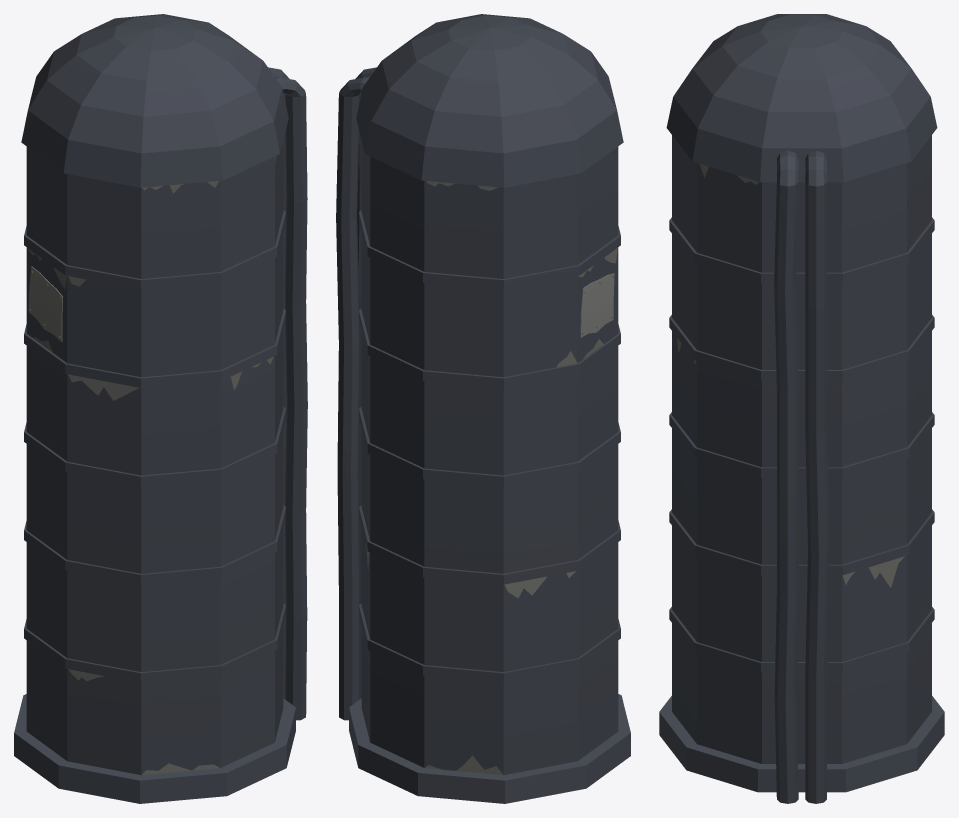
Rendered from Elevator_02.fbx.
The picture shows the model from 3 angles, left to right: view 1: azimuth 30°, elevation 25°; view 2: azimuth 150°, elevation 25°; view 3: azimuth 270°, elevation 25°; orthographic projection.
Visible parts, largest first — view 1: Elevator_02; view 2: Elevator_02; view 3: Elevator_02.
Boxes of the visible parts, x1,y1,x2,y2 form: Elevator_02: (14, 14, 307, 803); Elevator_02: (336, 14, 630, 803); Elevator_02: (659, 14, 944, 803).
Bounding box in the file's own units: 2.71 × 7 × 2.56.
